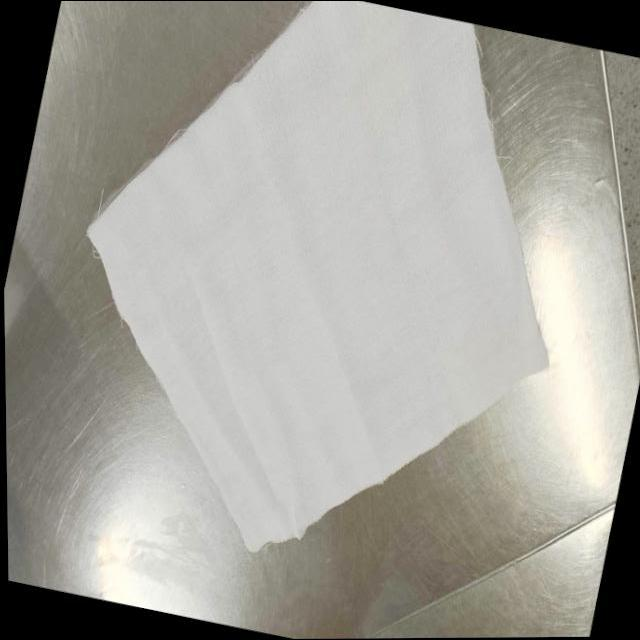Infectious: (83, 0, 549, 552)
Sharps: (88, 186, 107, 259)
